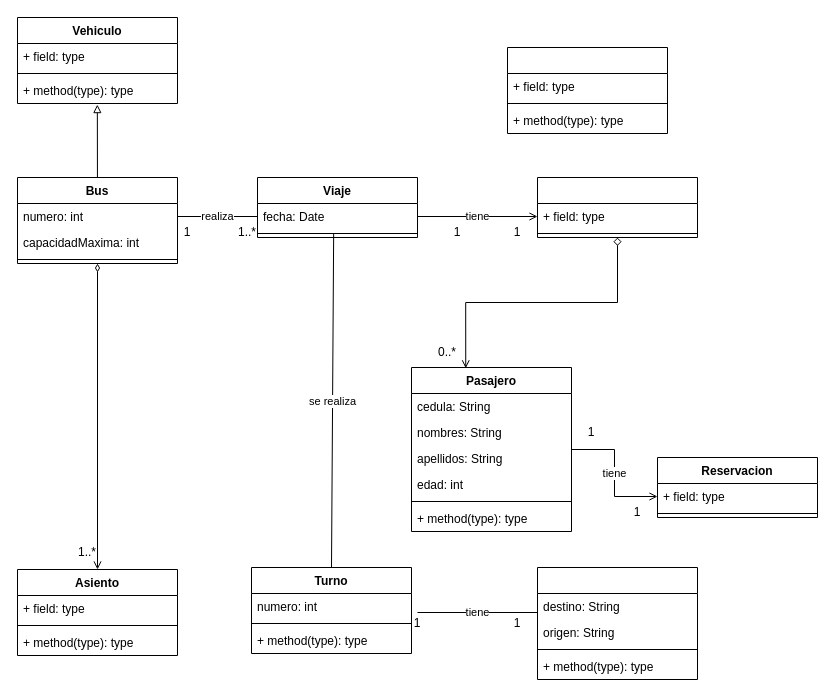
Image size: 835x700. Some labels were removed from this diagram. The shapes that lost their labels are listed below. From the top down, each one's box as (x1, y1, x2, y2) in pixels, then its label:
(506, 46, 668, 134): Boleto
(536, 176, 698, 238): ListaPasajeros
(536, 566, 698, 680): Ruta
